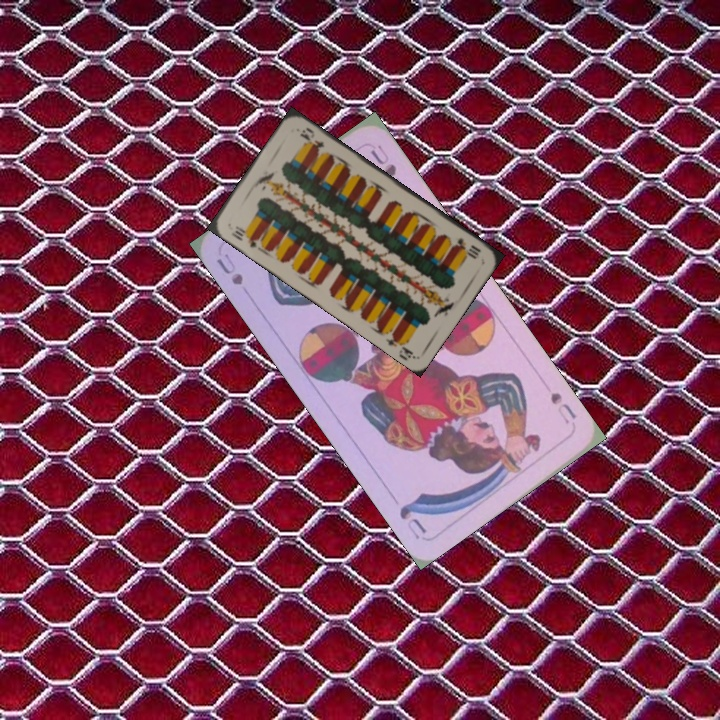E10: (446, 234, 483, 262), (227, 221, 261, 250)
SU: (212, 249, 246, 288), (546, 388, 579, 426)
